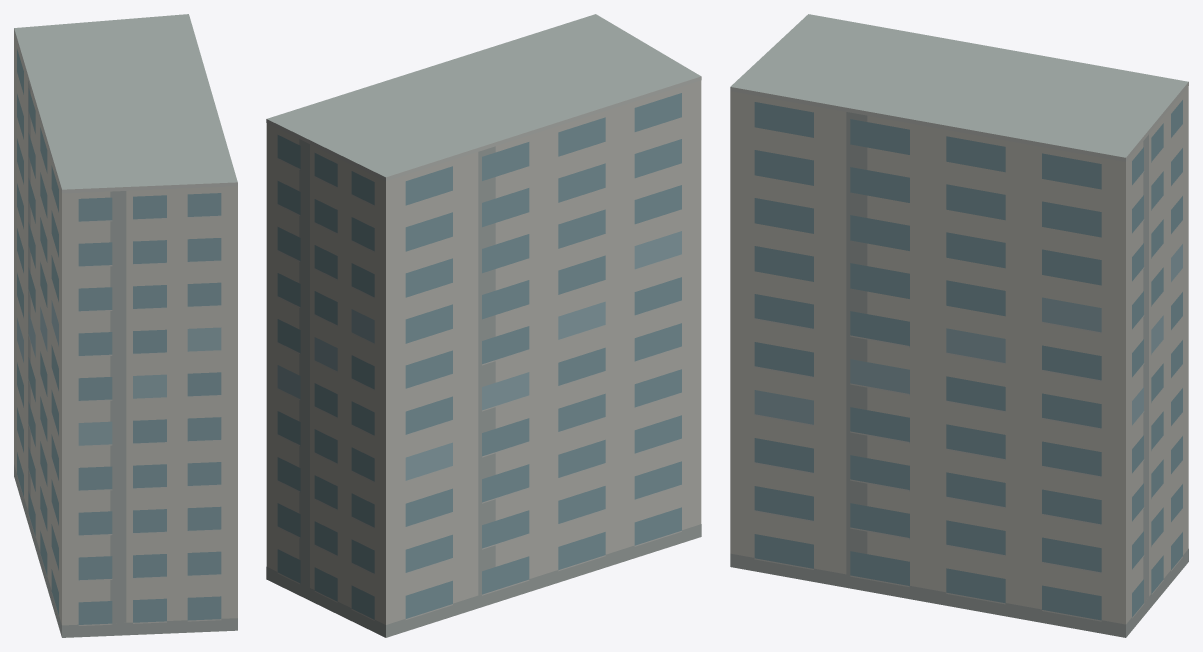
Rendered from residential-bb16023c-d48d-42d4-8842-575dde6c9525.glb.
3 views of the same model, side by side, from view 1: azimuth 30°, elevation 25°; view 2: azimuth 150°, elevation 25°; view 3: azimuth 270°, elevation 25° (orthographic). The views are drawn at different scales.
Visible parts, largest first — view 1: residential-bb16023c-d48d-42d4-8842-575dde6c9525.tmp; view 2: residential-bb16023c-d48d-42d4-8842-575dde6c9525.tmp; view 3: residential-bb16023c-d48d-42d4-8842-575dde6c9525.tmp.
Part boxes in pixels (x1=…): residential-bb16023c-d48d-42d4-8842-575dde6c9525.tmp: x1=14, y1=14, x2=237, y2=637; residential-bb16023c-d48d-42d4-8842-575dde6c9525.tmp: x1=266, y1=14, x2=701, y2=637; residential-bb16023c-d48d-42d4-8842-575dde6c9525.tmp: x1=730, y1=14, x2=1188, y2=637.
Bounding box in the file's own units: 17.99 × 28 × 24.25.
